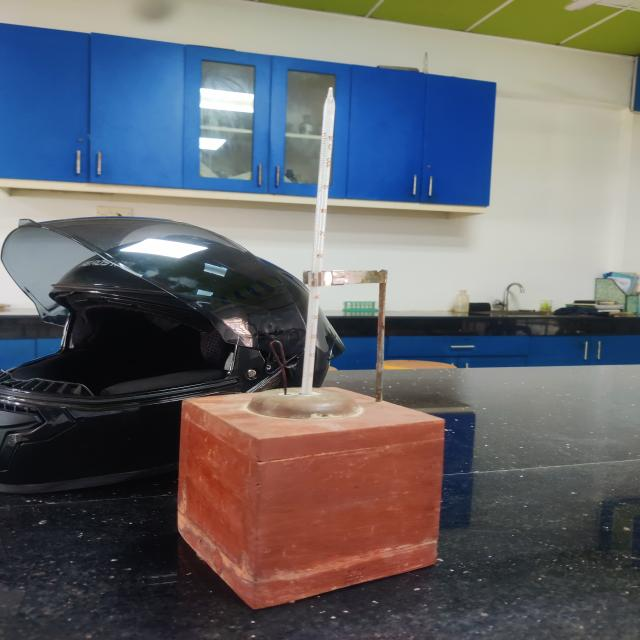Calorimeter: (179, 81, 471, 615)
